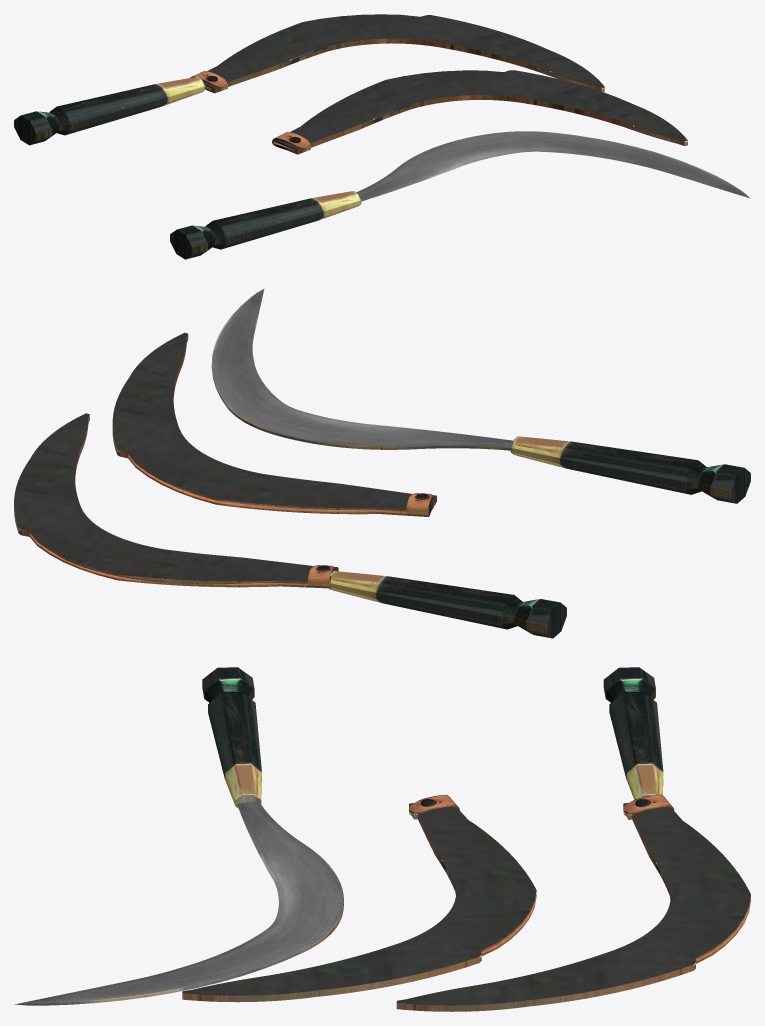
The model's file is Clurit.obj.
The picture shows the model from 3 angles, top to bottom: view 1: azimuth 30°, elevation 25°; view 2: azimuth 150°, elevation 25°; view 3: azimuth 270°, elevation 25°; orthographic projection. The views are drawn at different scales.
Parts seen in each view (by area): view 1: Object.1, Object.3, Object.2; view 2: Object.1, Object.3, Object.2; view 3: Object.1, Object.2, Object.3.
Boxes of the visible parts, x1,y1,x2,y2 form: Object.1: (14,14,604,145); Object.3: (170,131,750,259); Object.2: (272,70,687,154); Object.1: (14,413,566,638); Object.3: (211,289,750,503); Object.2: (112,332,436,516); Object.1: (396,667,750,1011); Object.2: (182,794,536,1002); Object.3: (14,667,343,1005).
Bounding box in the file's own units: 609 × 31.83 × 611.
4 materials, 3 textured.
